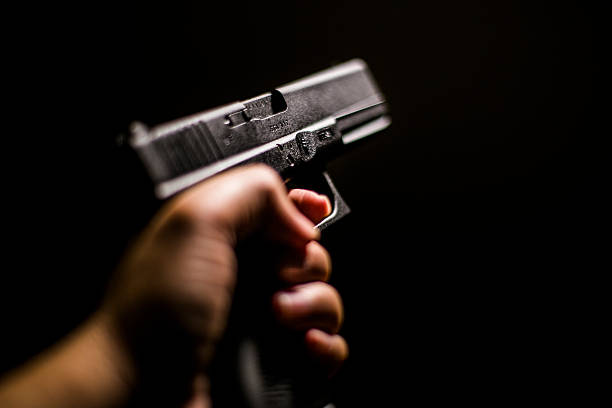pistol: (117, 56, 418, 239)
